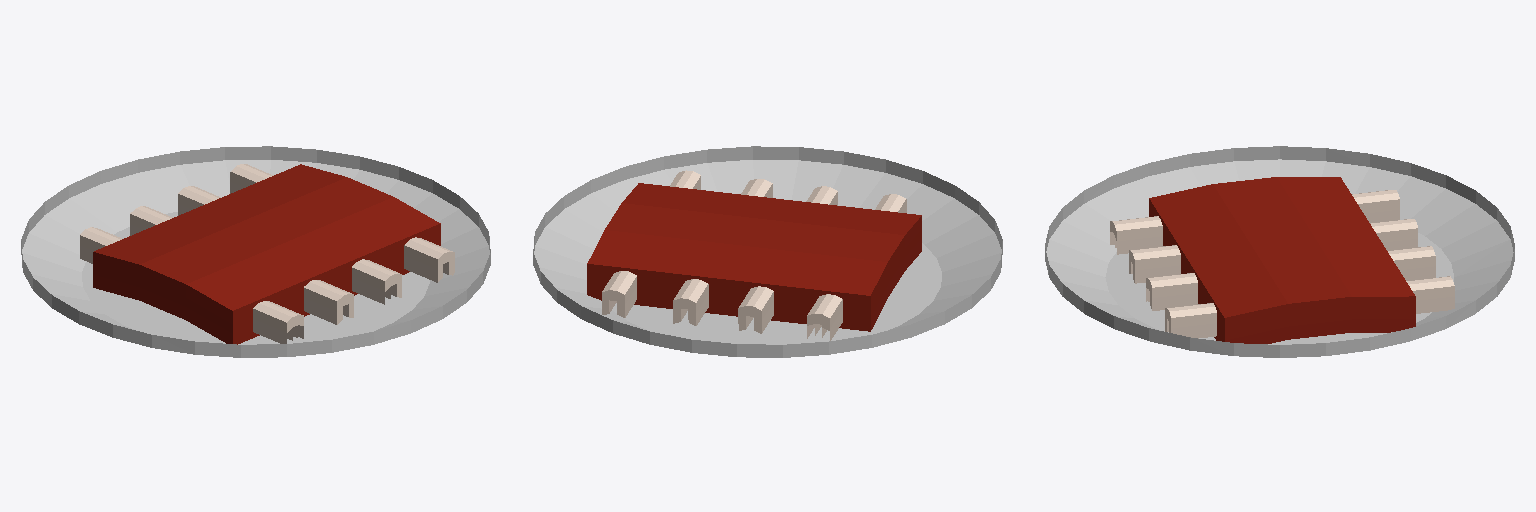
Rendered from ribs.obj.
The picture shows the model from 3 angles: view 1: azimuth 30°, elevation 25°; view 2: azimuth 150°, elevation 25°; view 3: azimuth 270°, elevation 25°; orthographic projection.
Parts seen in each view (by area): view 1: RibsPlate_Cylinder.004; view 2: RibsPlate_Cylinder.004; view 3: RibsPlate_Cylinder.004.
Part boxes in pixels (left/top/right/bottom): RibsPlate_Cylinder.004: left=21, top=146, right=490, bottom=357; RibsPlate_Cylinder.004: left=533, top=146, right=1002, bottom=357; RibsPlate_Cylinder.004: left=1045, top=146, right=1514, bottom=357.
Bounding box in the file's own units: 0.1617 × 0.0163 × 0.1617.